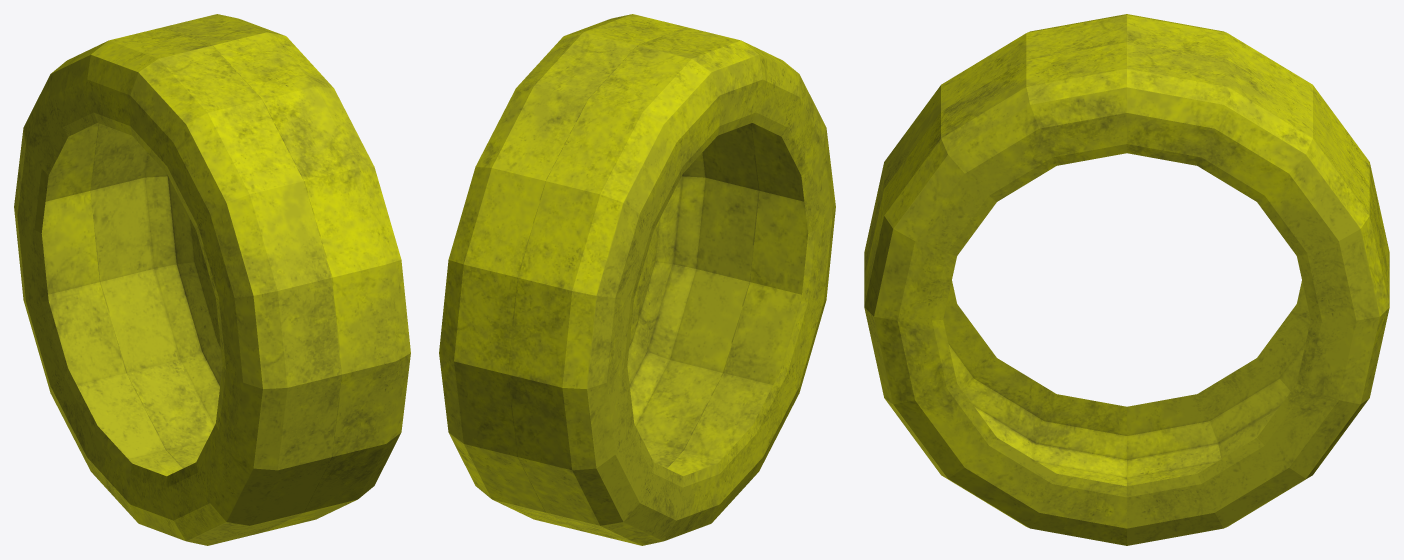
Rendered from Tires_LP.fbx.
The picture shows the model from 3 angles, left to right: view 1: azimuth 30°, elevation 25°; view 2: azimuth 150°, elevation 25°; view 3: azimuth 270°, elevation 25°; orthographic projection.
Parts seen in each view (by area): view 1: LOWPOLY_TIRE; view 2: LOWPOLY_TIRE; view 3: LOWPOLY_TIRE.
Boxes of the visible parts, x1,y1,x2,y2 form: LOWPOLY_TIRE: (14, 14, 410, 545); LOWPOLY_TIRE: (439, 14, 835, 545); LOWPOLY_TIRE: (864, 14, 1389, 545).
Size of the model in its own units: 73.4 by 200 by 200.
